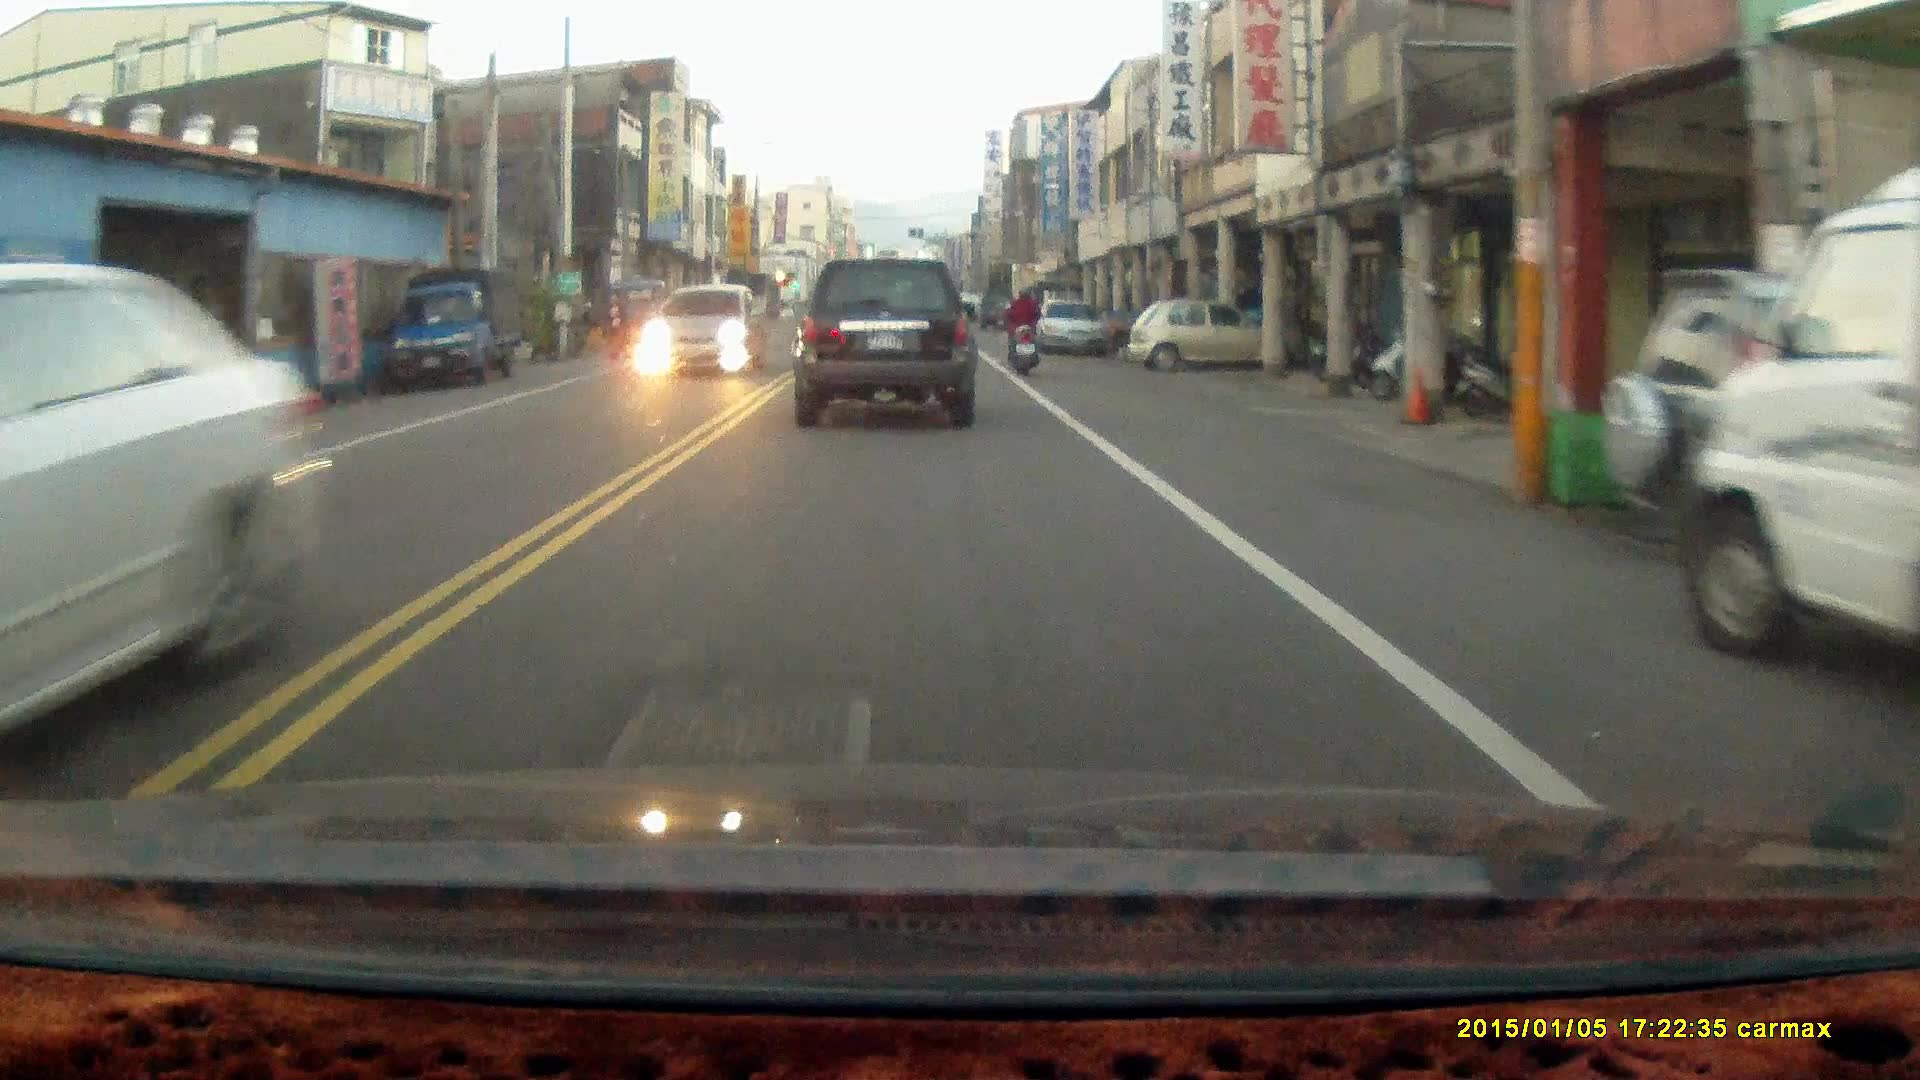pedestrian: (605, 289, 626, 354)
rider: (1005, 283, 1042, 378)
vehicle: (1, 261, 317, 744), (1674, 161, 1920, 712), (1597, 268, 1919, 571), (788, 258, 979, 430), (390, 268, 535, 393), (645, 281, 772, 376), (1129, 299, 1285, 374), (1036, 298, 1111, 361)
